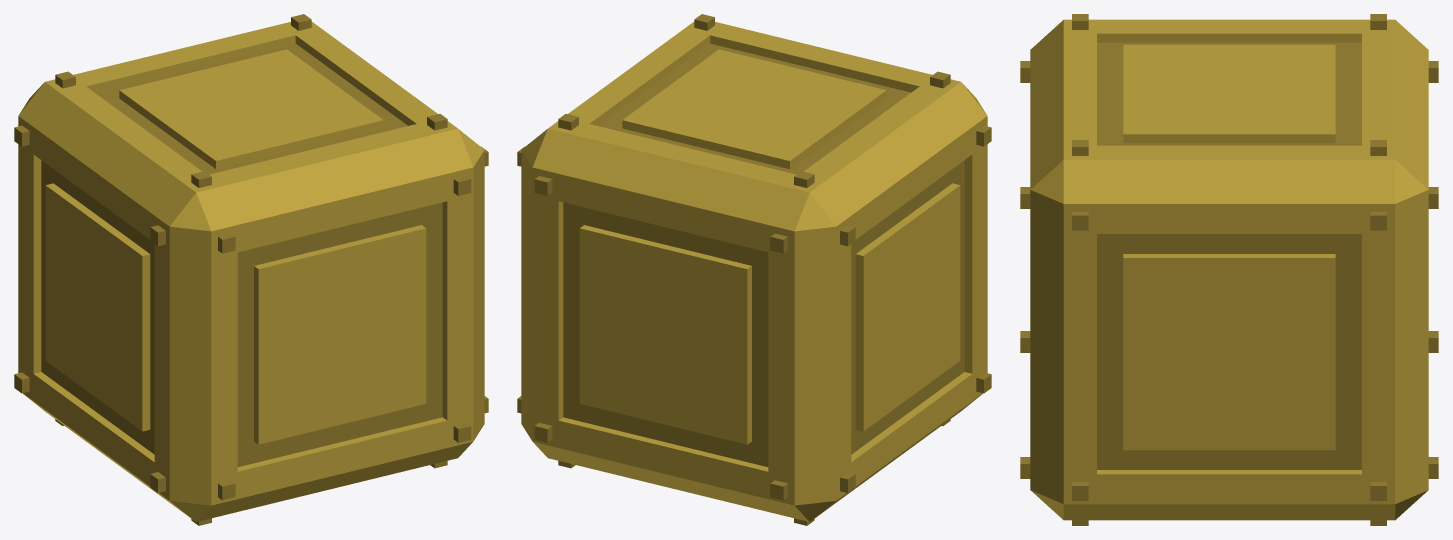
The model's file is WeightBox.glb.
3 renders of one model, left to right at view 1: azimuth 30°, elevation 25°; view 2: azimuth 150°, elevation 25°; view 3: azimuth 270°, elevation 25°, orthographic. The views are drawn at different scales.
Parts seen in each view (by area): view 1: YellowBox; view 2: YellowBox; view 3: YellowBox.
Part boxes in pixels (x1,y1,x2,y2): YellowBox: (14,14,488,525); YellowBox: (517,14,991,525); YellowBox: (1020,14,1438,525).
Size of the model in its own units: 1.04 by 1.04 by 1.04.
